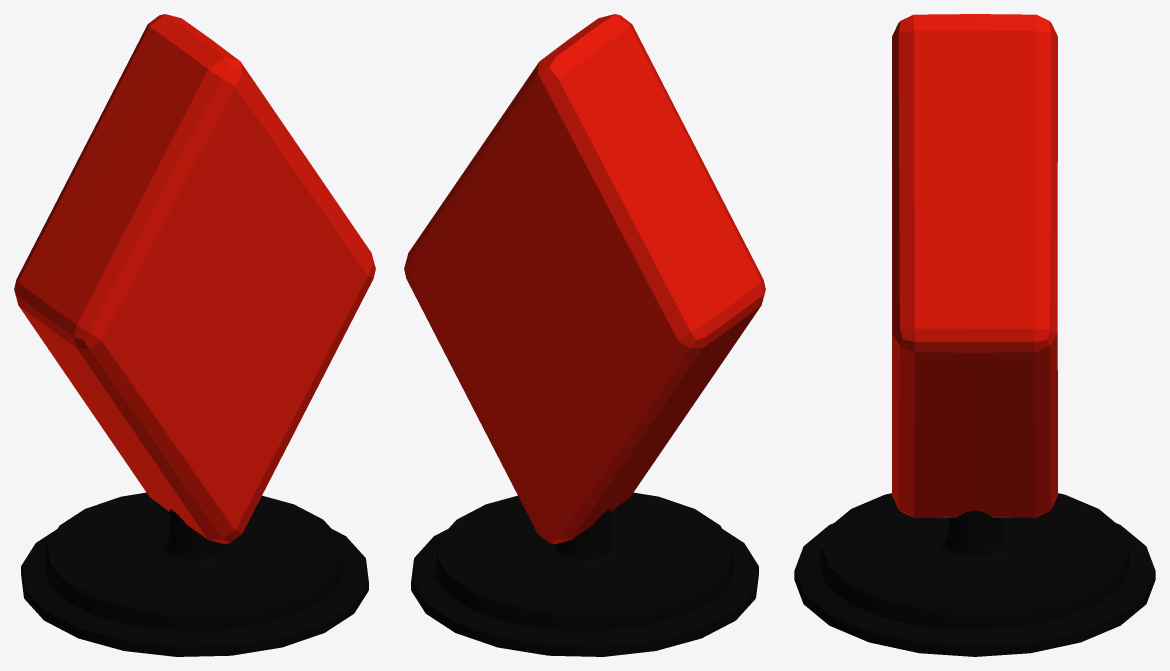
Rendered from losange_final.fbx.
3 renders of one model, left to right at view 1: azimuth 30°, elevation 25°; view 2: azimuth 150°, elevation 25°; view 3: azimuth 270°, elevation 25°, orthographic. The views are drawn at different scales.
Visible parts, largest first — view 1: Losange, Socle_pomme; view 2: Losange, Socle_pomme; view 3: Losange, Socle_pomme.
Part boxes in pixels (box(x1,y1,x2,y2)): Losange: box(14, 14, 375, 544); Socle_pomme: box(21, 492, 368, 656); Losange: box(404, 14, 765, 544); Socle_pomme: box(411, 492, 758, 656); Losange: box(892, 14, 1057, 517); Socle_pomme: box(794, 493, 1155, 656).
Size of the model in its own units: 200 by 346 by 200.
